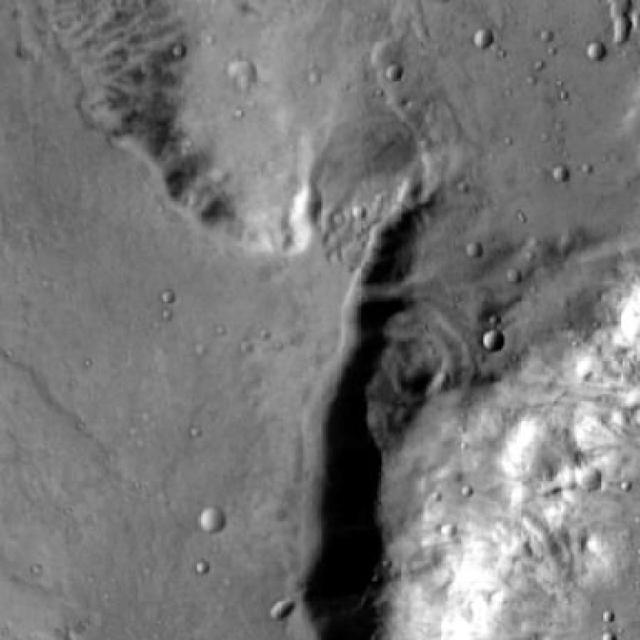crater: (196, 506, 222, 532), (573, 469, 599, 494), (225, 55, 250, 79), (604, 23, 628, 46), (483, 329, 505, 351), (269, 596, 291, 618), (605, 1, 627, 22), (582, 49, 602, 69), (388, 62, 406, 80), (552, 168, 570, 184)
